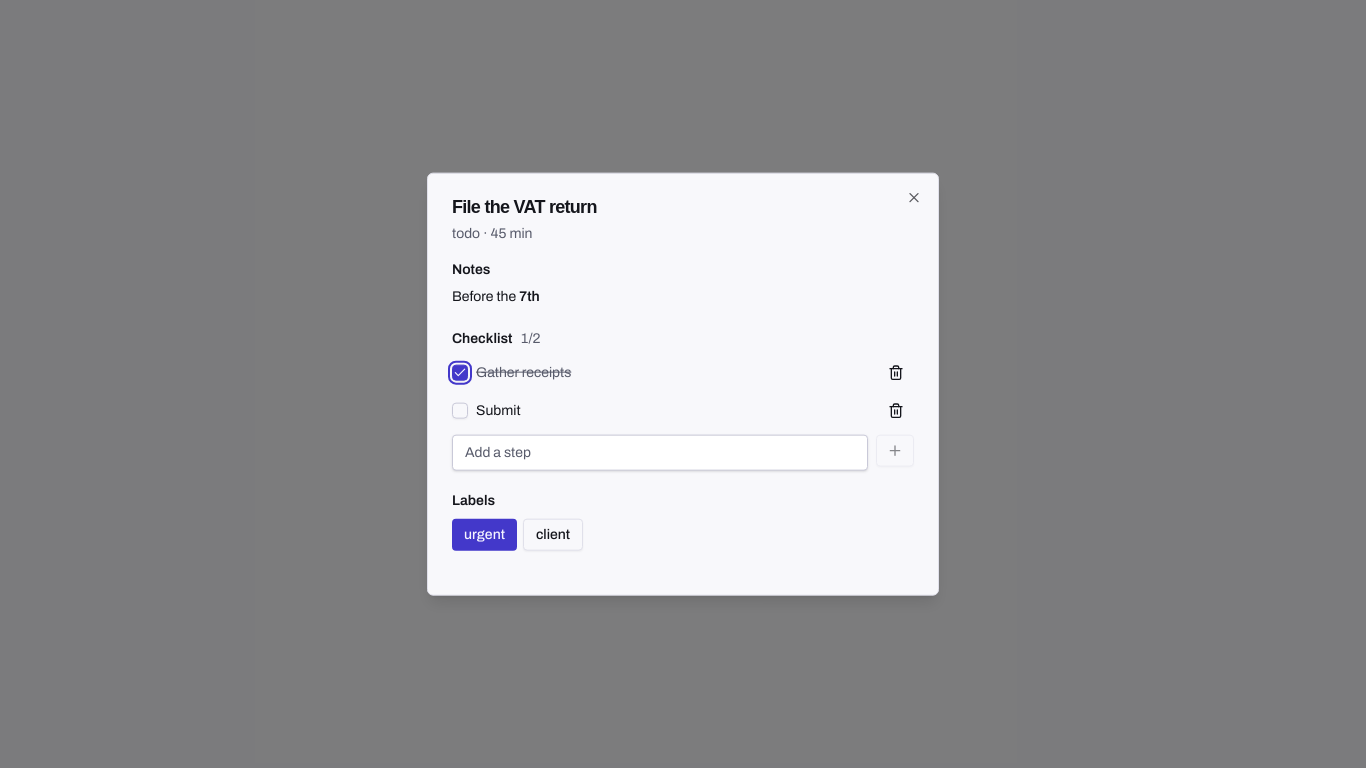
CardDetailSheet › rolls a failed tick back
Click the checkbox named "Submit" next to "Submit" at (460, 410), box [452,402,468,418]
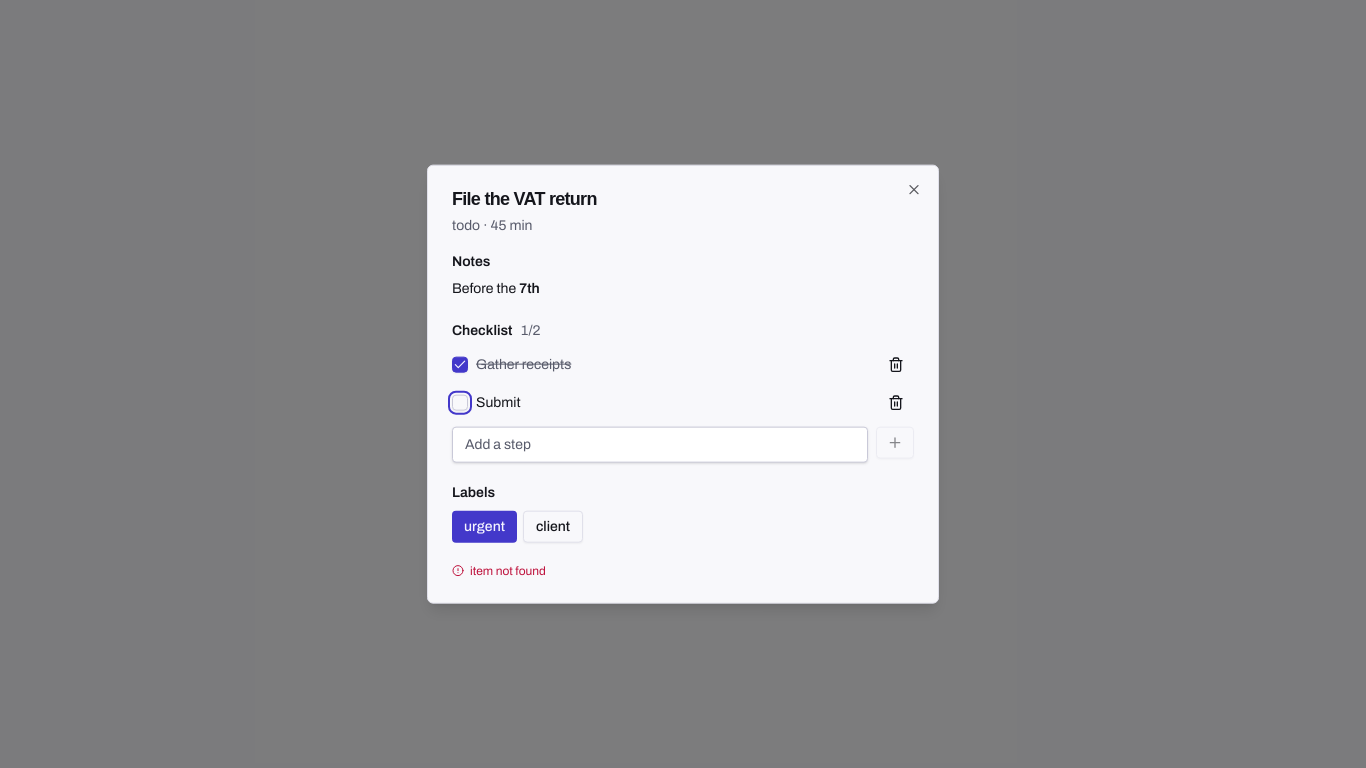
Expected: the text "item not found" is shown, [452,563,546,577]
